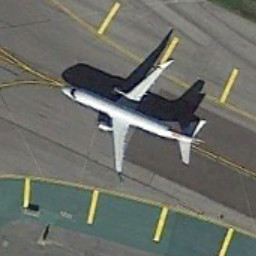Airplane: (56, 52, 209, 188)
